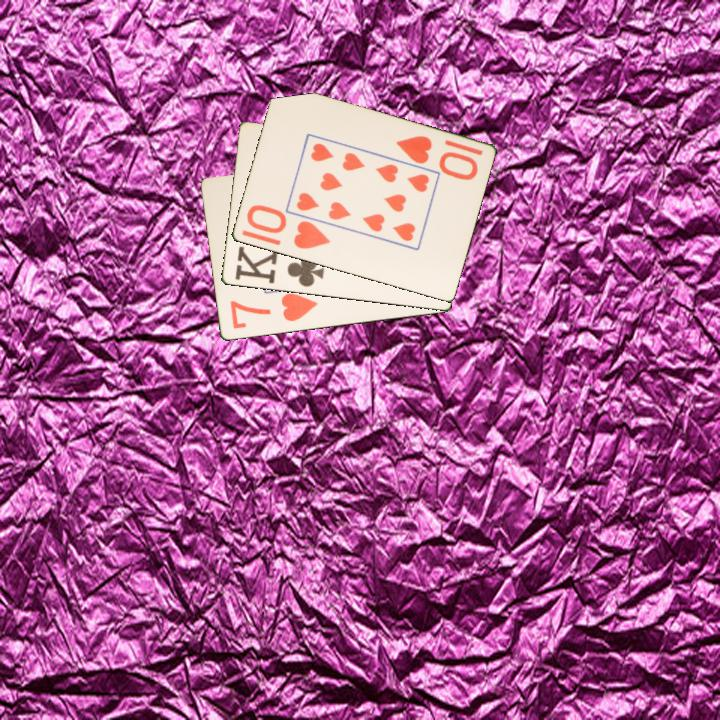10h: (243, 202, 333, 252), (392, 132, 481, 182)
7h: (226, 290, 320, 332)
Kc: (231, 244, 327, 290)
